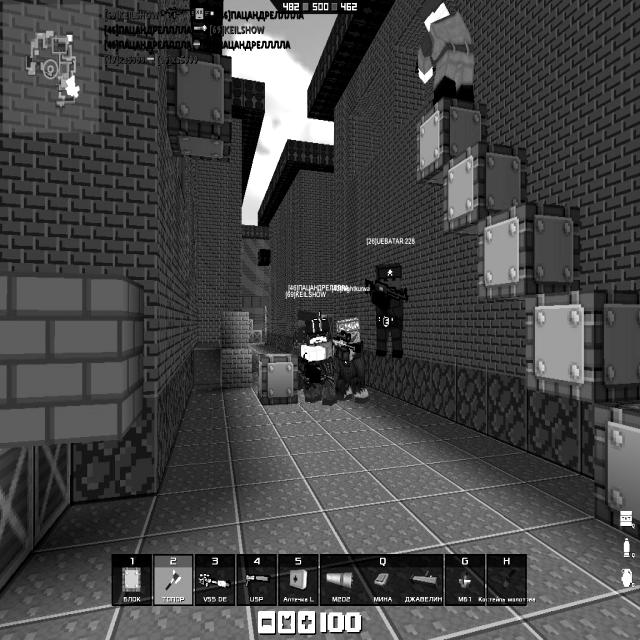Head: (419, 0, 452, 33), (375, 262, 404, 294), (306, 316, 331, 344), (337, 317, 360, 347), (297, 311, 313, 325)
Player: (406, 0, 478, 109), (366, 257, 410, 362), (334, 320, 374, 406), (304, 313, 334, 406), (291, 306, 315, 388)
